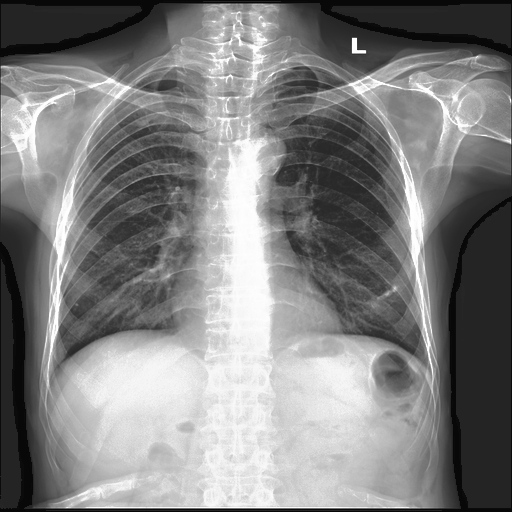Consolidation: (251, 133, 286, 176)
Lung Opacity: (369, 284, 398, 303)
Pneumothorax: (120, 103, 147, 128), (369, 284, 398, 303)
Pulmonary fibrosis: (137, 115, 158, 126)
